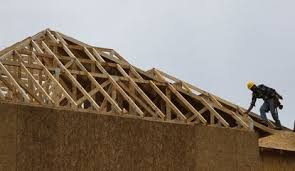hard hat: (246, 80, 255, 89)
